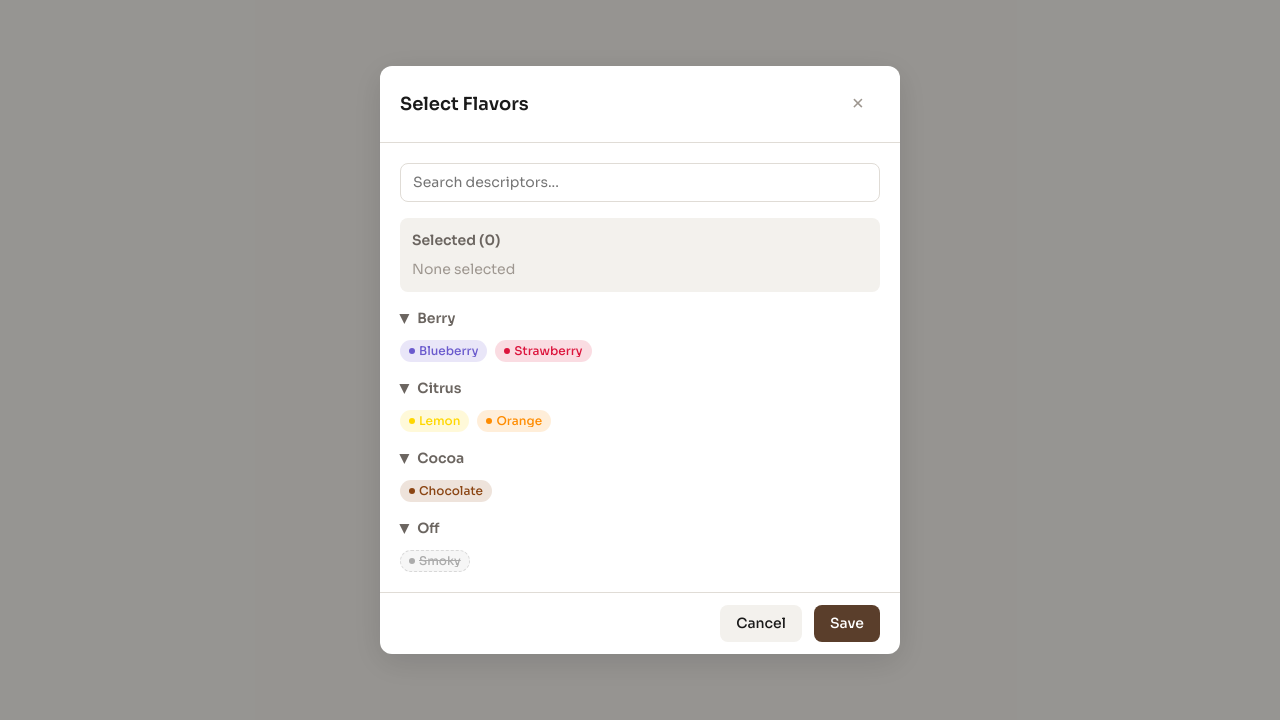
FlavorPickerModal › toggles selection when clicking a descriptor pill
The width and height of the screenshot is (1280, 720).
Expected: the text "Selected (0)" is shown, 412,231 -> 500,249
Click the button "Blueberry" at (444, 350), box 400,337 -> 487,362
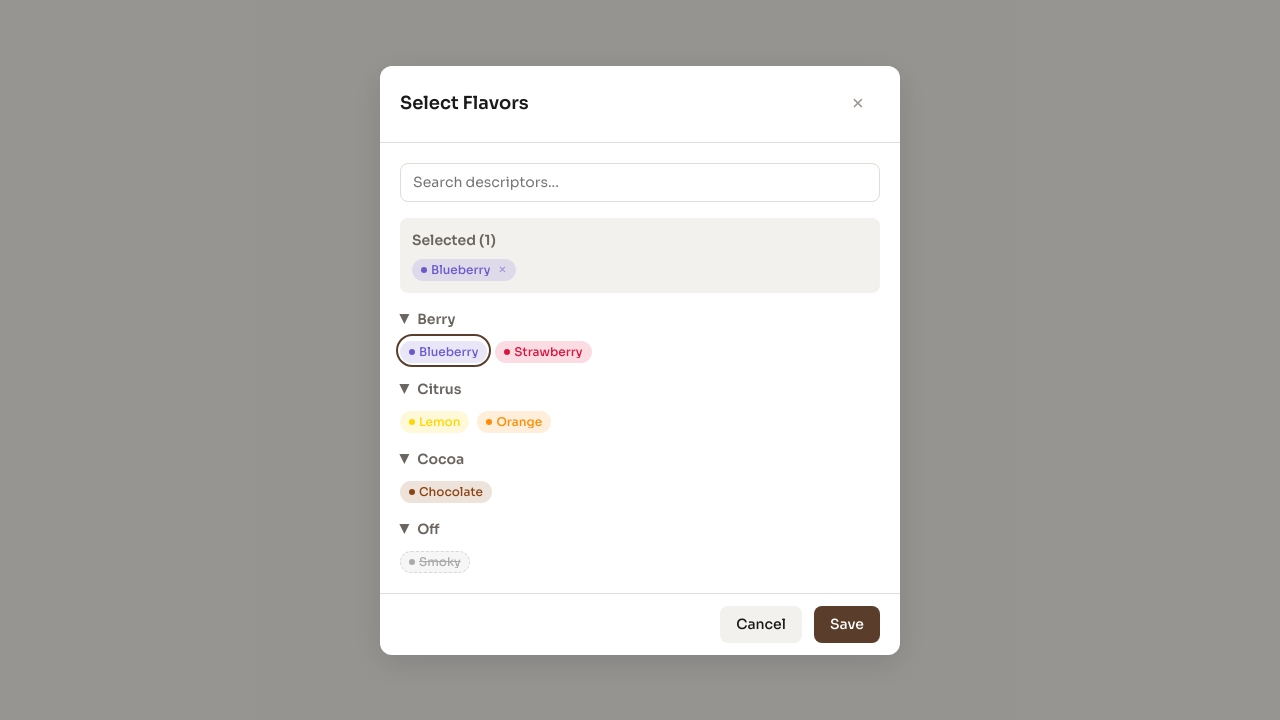
Now the text "Selected (1)" is shown, box 412,230 -> 496,248
Click the button "Blueberry" at (444, 350), box 400,338 -> 487,362
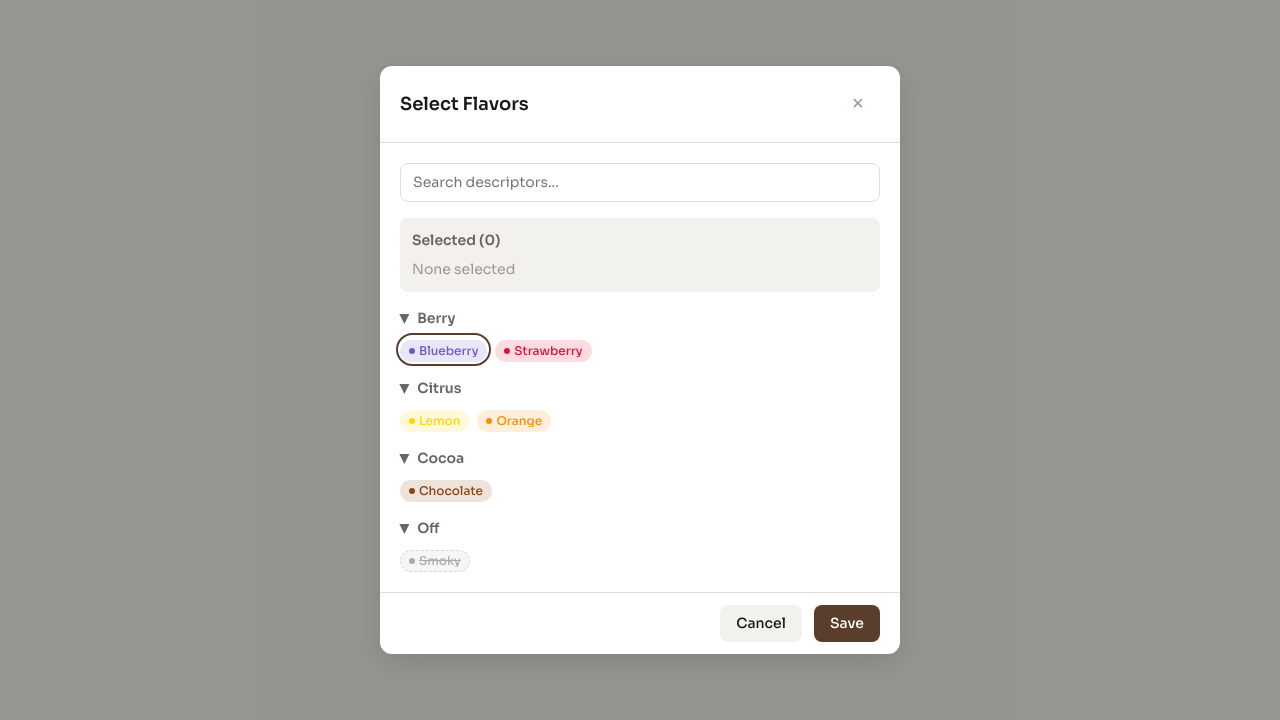
Now the text "Selected (0)" is shown, box 412,231 -> 500,249
